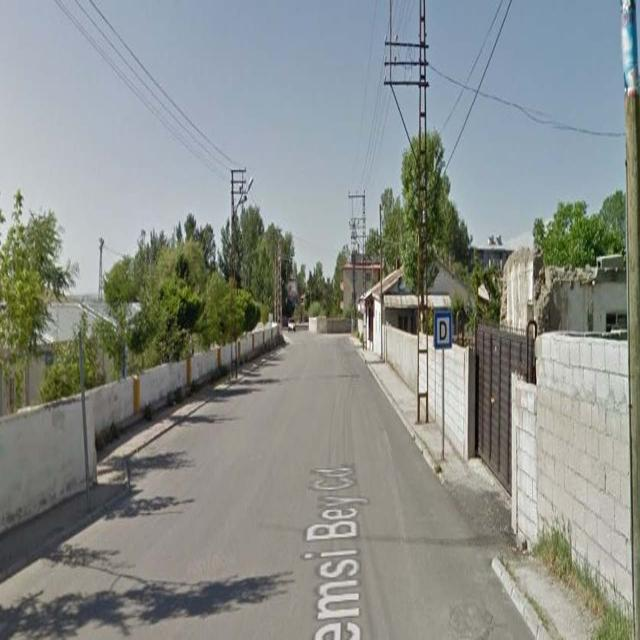durak: (435, 313, 451, 349)
